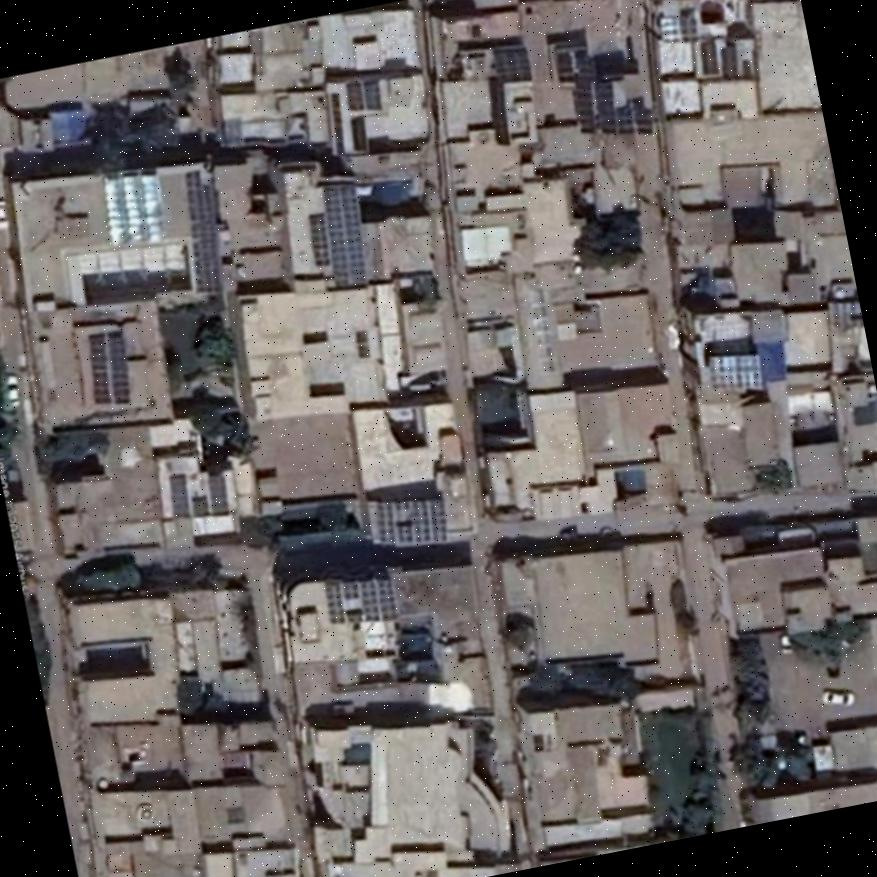Solarpanel: (182, 168, 222, 294), (322, 184, 365, 286), (103, 174, 159, 243), (375, 498, 444, 543), (87, 332, 129, 403), (326, 578, 393, 620), (708, 355, 760, 388), (575, 59, 596, 133), (596, 82, 616, 136), (307, 214, 329, 263), (615, 106, 652, 134), (349, 80, 378, 108), (171, 476, 189, 515), (209, 472, 226, 513), (701, 40, 718, 73), (721, 47, 735, 80)
